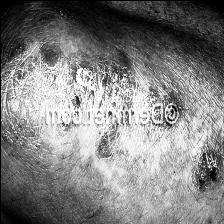Non-Cancerous Skin Condition: (0, 46, 134, 142), (144, 87, 182, 137), (191, 147, 223, 187)
